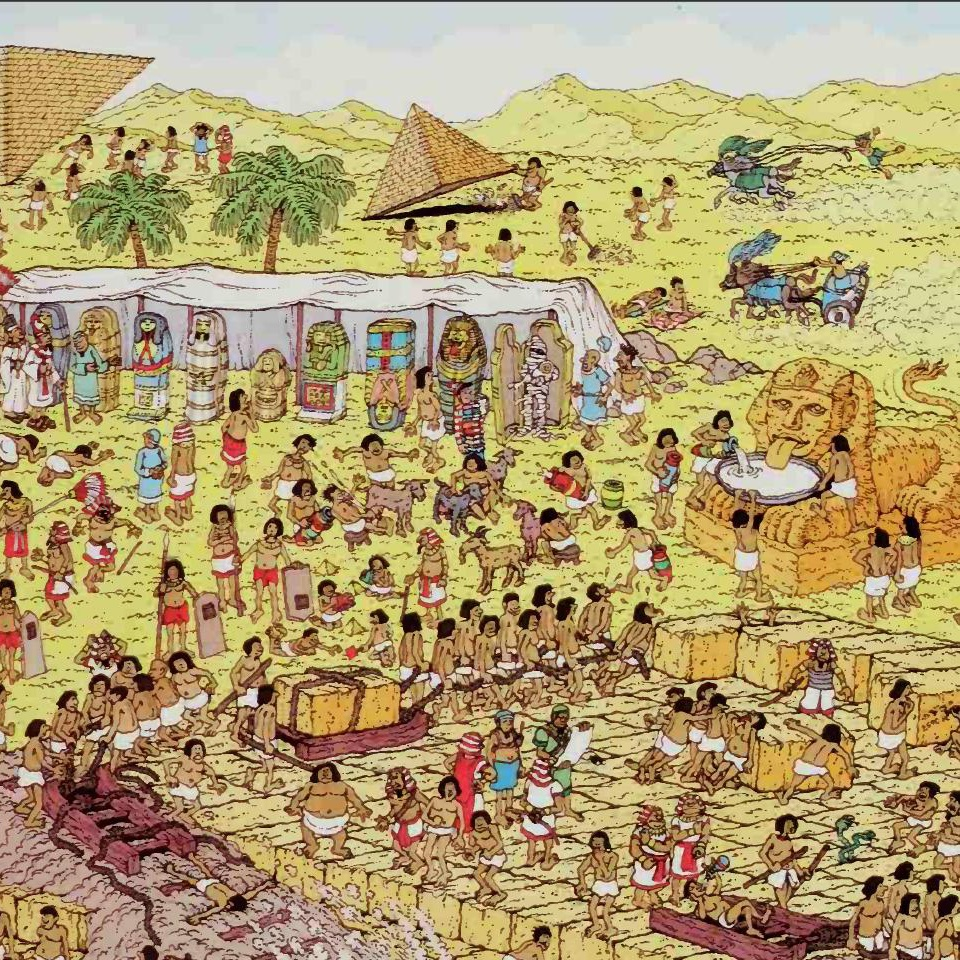waldo: (448, 378, 485, 452)
